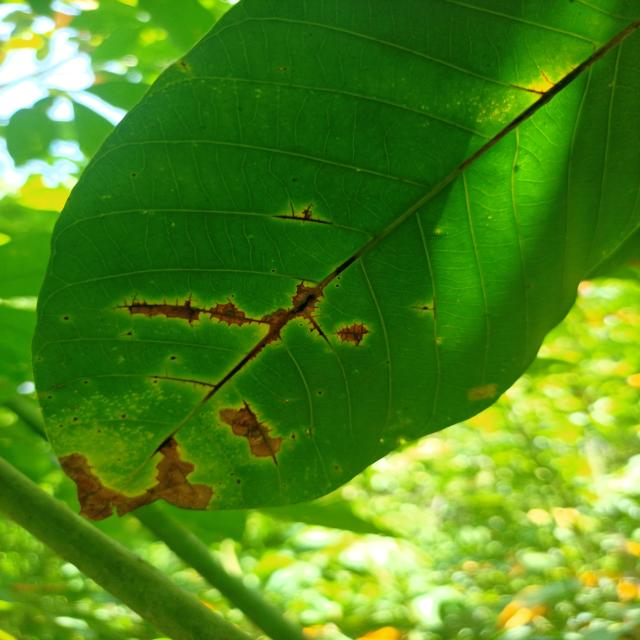Colletotrichum: (64, 316, 70, 320), (171, 356, 176, 359), (336, 284, 339, 287), (338, 277, 340, 280), (272, 270, 275, 272), (232, 295, 234, 297)
Corynespora: (204, 254, 359, 405), (460, 44, 617, 170), (110, 291, 270, 325), (241, 400, 280, 465), (271, 200, 333, 226), (147, 370, 217, 389), (331, 320, 372, 347), (150, 430, 178, 458), (305, 314, 330, 345), (410, 303, 434, 316)
Leaf-Blight: (58, 438, 215, 522)
